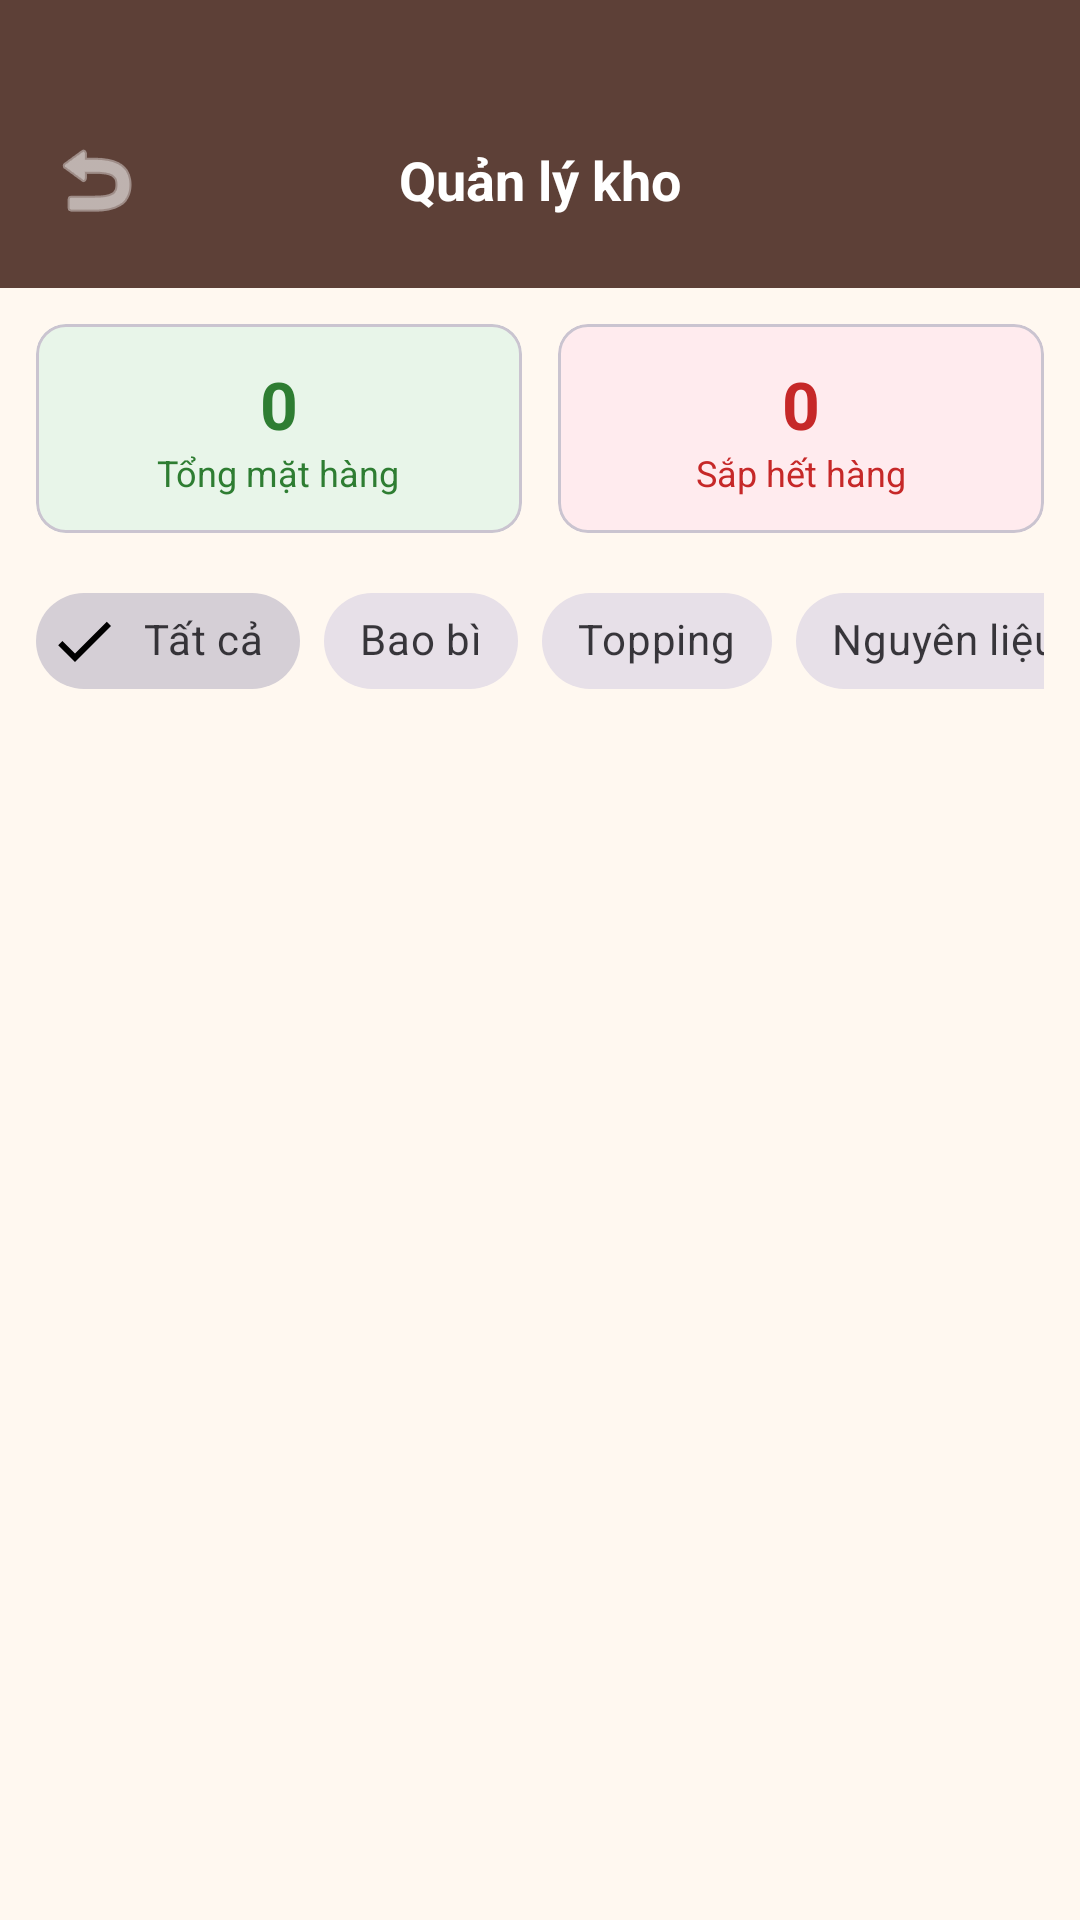

Icon click points for this 1080x1920 phone screenshot, format [x,y]:
Quay lại: [97,180]
